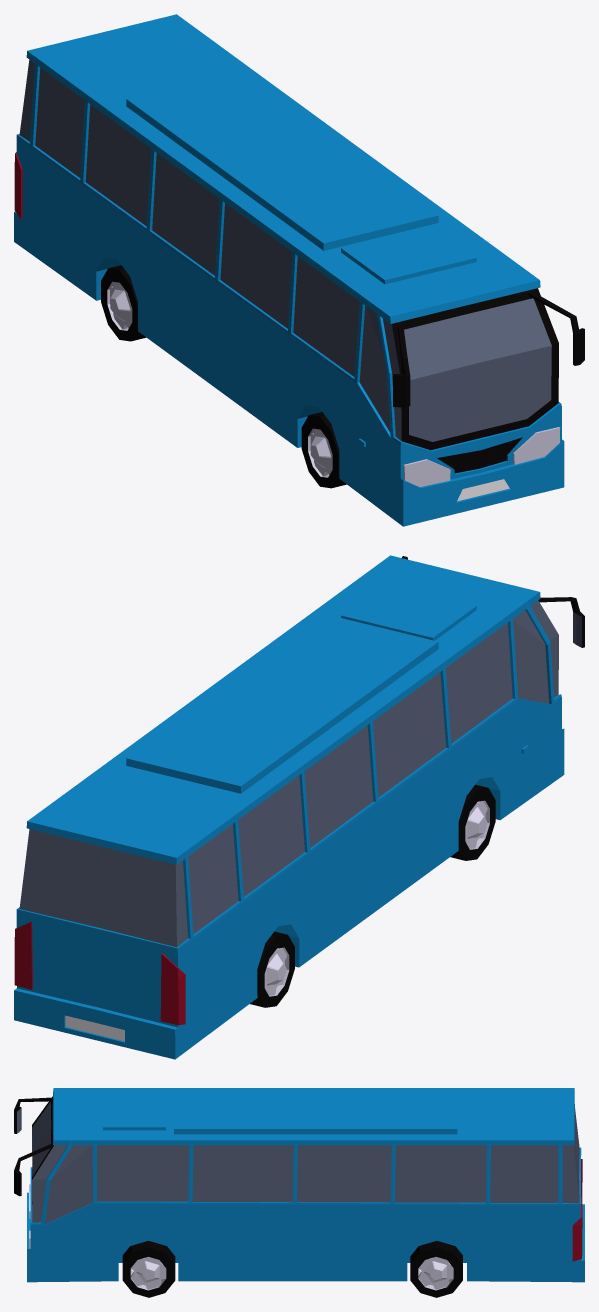
The model's file is Bus.gltf.
3 views of the same model, one above another, from view 1: azimuth 30°, elevation 25°; view 2: azimuth 150°, elevation 25°; view 3: azimuth 270°, elevation 25° (orthographic). The views are drawn at different scales.
Visible parts, largest first — view 1: Bus, Bus wheel front right, Bus wheel rear right; view 2: Bus, Bus wheel rear right, Bus wheel front right; view 3: Bus, Bus wheel front left, Bus wheel rear left.
Part boxes in pixels (left/top/right/bottom): Bus: left=14, top=14, right=584, bottom=526; Bus wheel front right: left=301, top=412, right=346, bottom=488; Bus wheel rear right: left=101, top=265, right=145, bottom=341; Bus: left=14, top=555, right=584, bottom=1059; Bus wheel rear right: left=250, top=931, right=294, bottom=1007; Bus wheel front right: left=450, top=784, right=495, bottom=860; Bus: left=14, top=1088, right=584, bottom=1282; Bus wheel front left: left=122, top=1240, right=175, bottom=1297; Bus wheel rear left: left=410, top=1241, right=462, bottom=1297.
Bounding box in the file's own units: 3.81 × 4.27 × 13.7.
